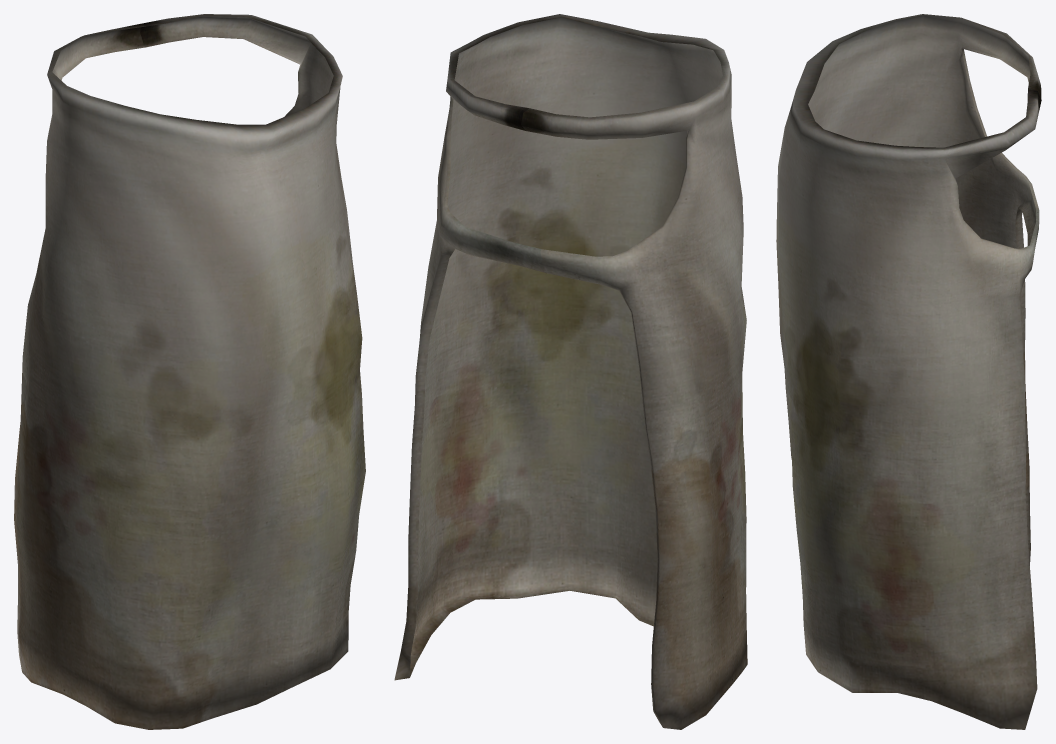
The model's file is Uth_Apron_MshShape.obj.
The picture shows the model from 3 angles, left to right: view 1: azimuth 30°, elevation 25°; view 2: azimuth 150°, elevation 25°; view 3: azimuth 270°, elevation 25°; orthographic projection. The views are drawn at different scales.
Parts seen in each view (by area): view 1: Uth_Apron_Msh Uth_Body_Grp SkinnedMesh Mesh CharacterRoot; view 2: Uth_Apron_Msh Uth_Body_Grp SkinnedMesh Mesh CharacterRoot; view 3: Uth_Apron_Msh Uth_Body_Grp SkinnedMesh Mesh CharacterRoot.
Part boxes in pixels (x1,y1,x2,y2): Uth_Apron_Msh Uth_Body_Grp SkinnedMesh Mesh CharacterRoot: [14, 14, 365, 729]; Uth_Apron_Msh Uth_Body_Grp SkinnedMesh Mesh CharacterRoot: [394, 14, 747, 729]; Uth_Apron_Msh Uth_Body_Grp SkinnedMesh Mesh CharacterRoot: [776, 14, 1041, 729].
Bounding box in the file's own units: 46.11 × 91.58 × 37.29.
Materials: 1 (1 with a texture image).
